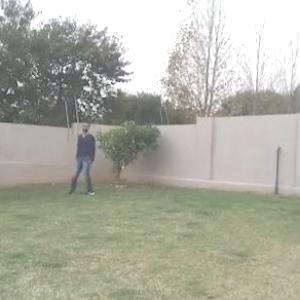follow: (76, 117, 96, 196)
